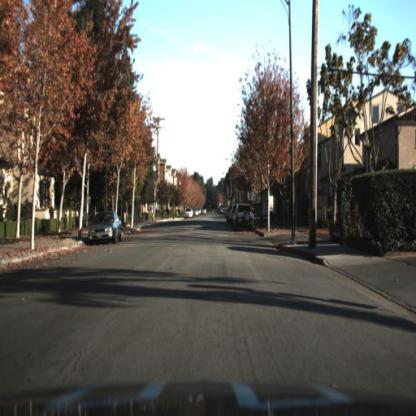car: (89, 210, 124, 246), (233, 202, 256, 231), (182, 207, 196, 222)
